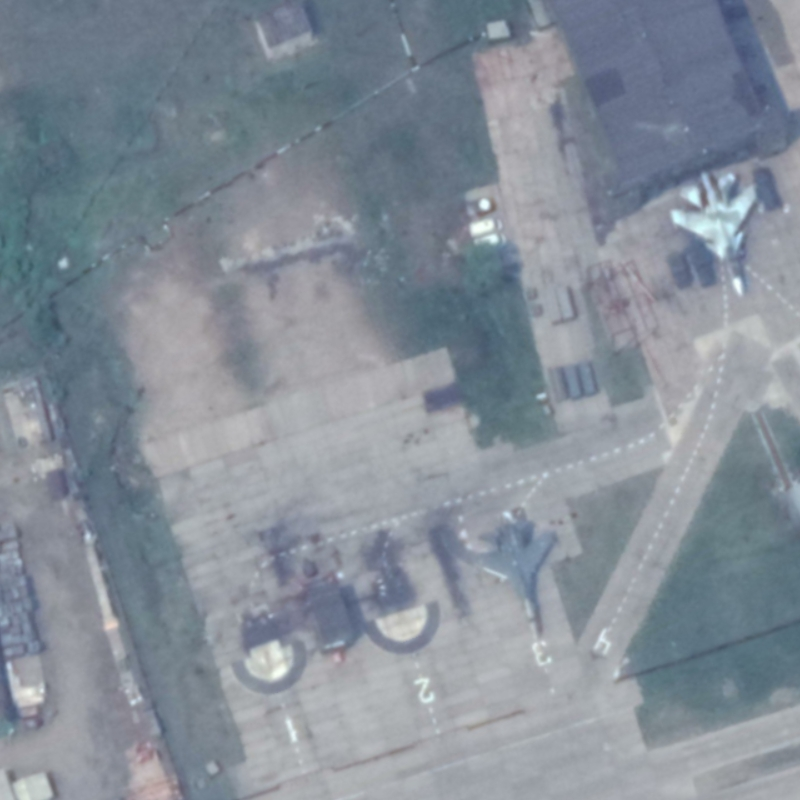A1: (473, 517, 561, 645)
A19: (667, 168, 763, 302)
